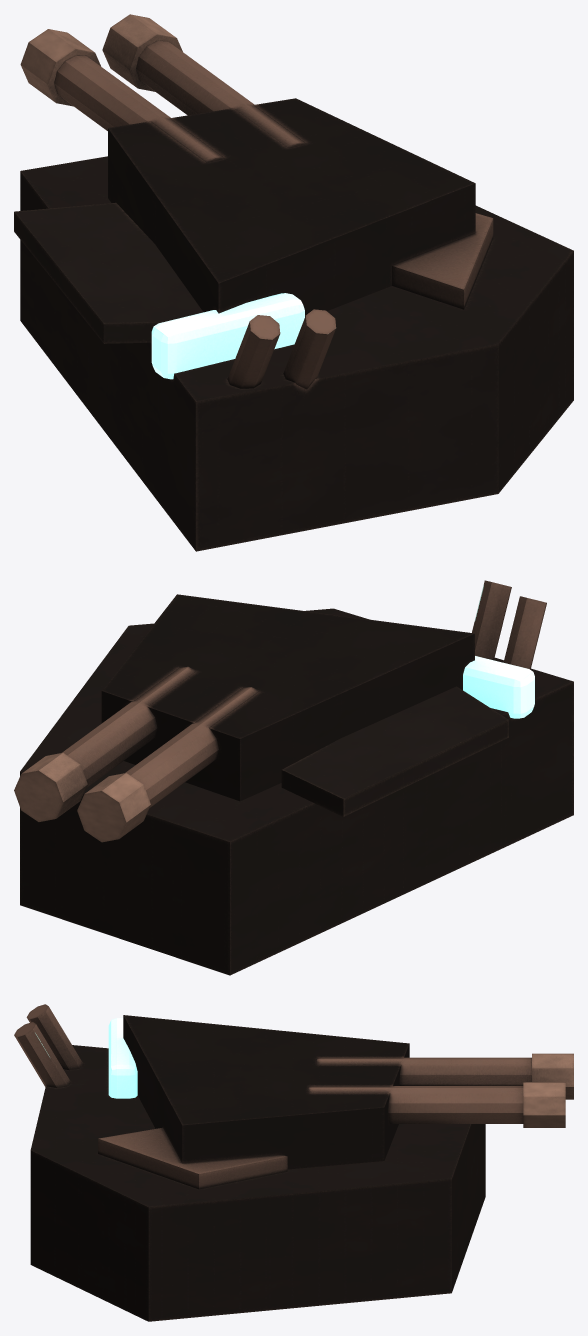
The model's file is sod_phantom_tank.glb.
The picture shows the model from 3 angles, top to bottom: view 1: azimuth 30°, elevation 25°; view 2: azimuth 150°, elevation 25°; view 3: azimuth 270°, elevation 25°; orthographic projection. The views are drawn at different scales.
Parts seen in each view (by area): view 1: sod_phantom_tank; view 2: sod_phantom_tank; view 3: sod_phantom_tank.
Part boxes in pixels (x1,y1,x2,y2): sod_phantom_tank: [14, 14, 573, 551]; sod_phantom_tank: [14, 580, 573, 975]; sod_phantom_tank: [14, 1004, 573, 1321].
Size of the model in its own units: 0.94 by 0.458 by 1.33.
Materials: 1 (1 with a texture image).
